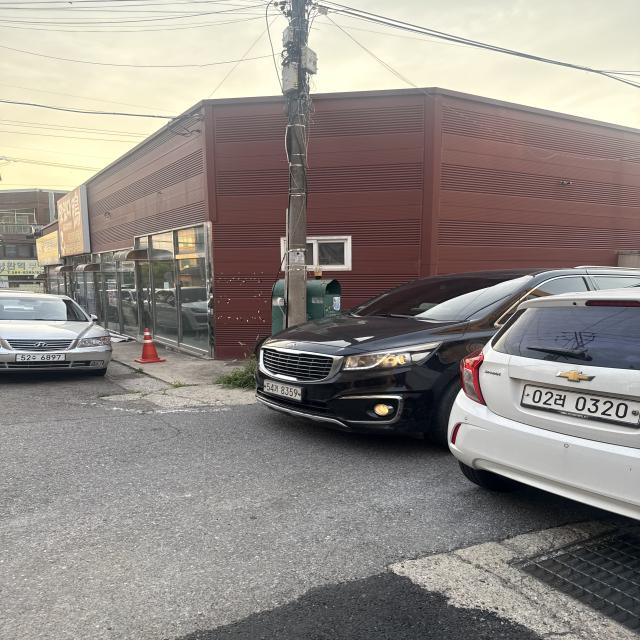car: (274, 265, 604, 472), (444, 268, 640, 525), (0, 287, 113, 379)
